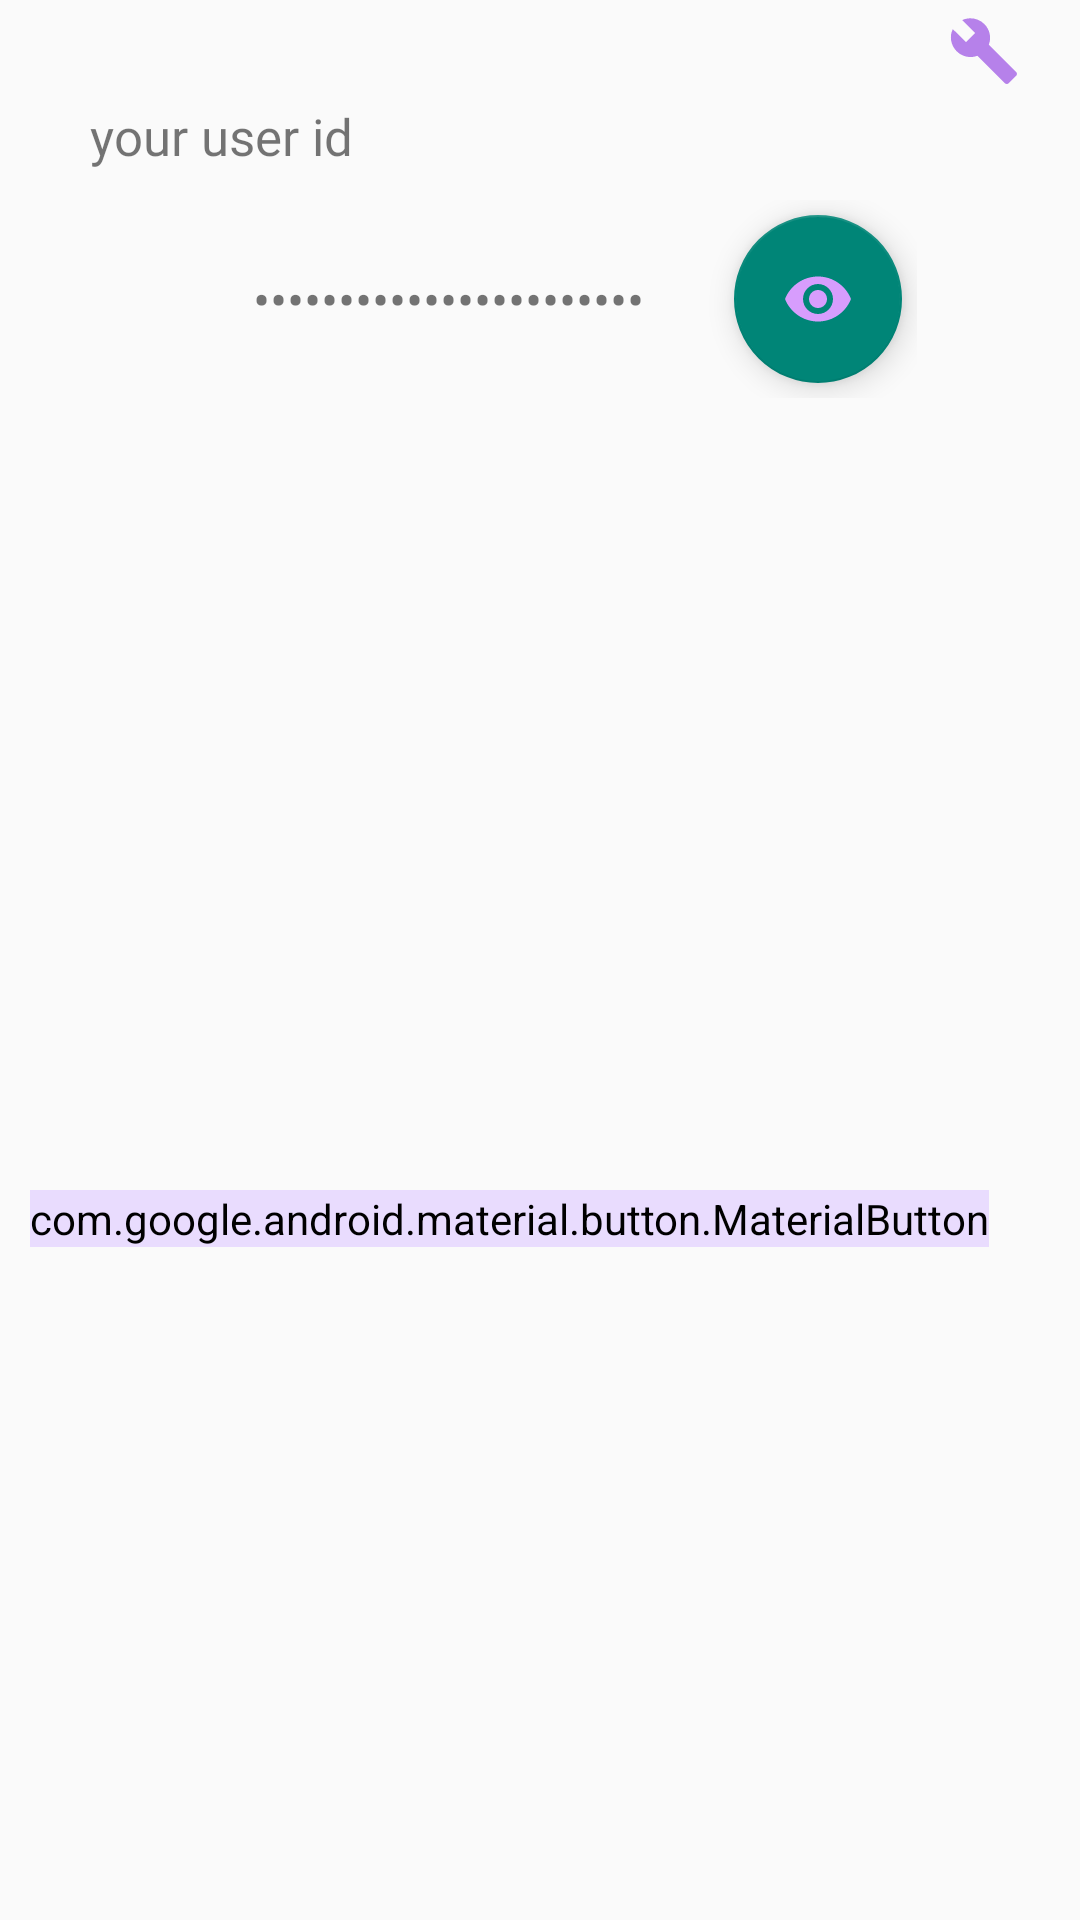

Point at icon controls on the screen. Image size 1080w x 1920h, points as [x,y].
build: [984,51]
eye: [818,299]
